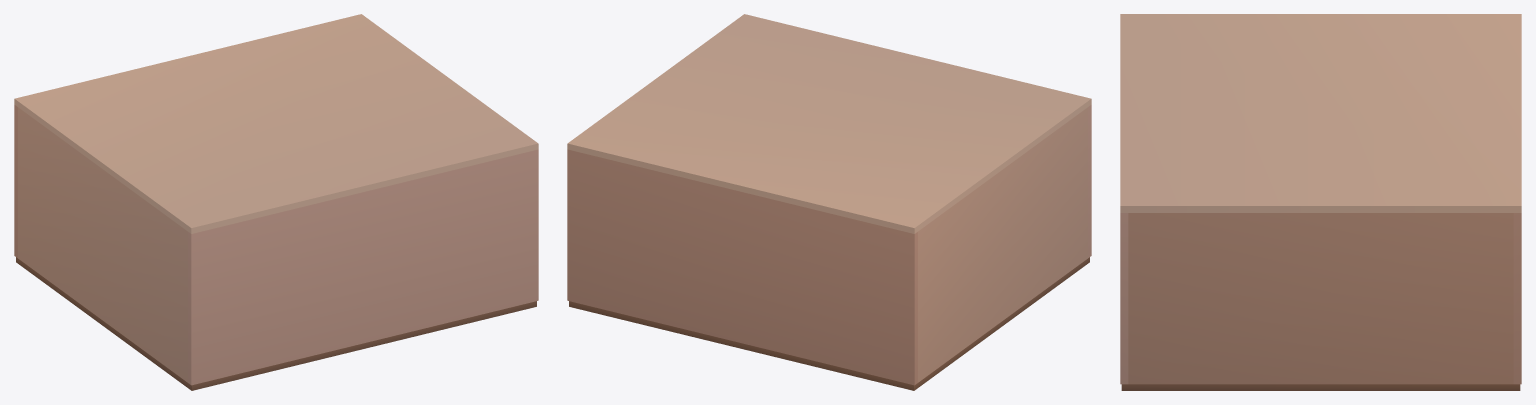
Rendered from livingroom.glb.
3 renders of one model, left to right at view 1: azimuth 30°, elevation 25°; view 2: azimuth 150°, elevation 25°; view 3: azimuth 270°, elevation 25°, orthographic. The views are drawn at different scales.
Visible parts, largest first — view 1: Living Room plaster and walnut floor; view 2: Living Room plaster and walnut floor; view 3: Living Room plaster and walnut floor.
Part boxes in pixels (box(x1,y1,x2,y2)): Living Room plaster and walnut floor: box(14, 14, 538, 390); Living Room plaster and walnut floor: box(567, 14, 1091, 390); Living Room plaster and walnut floor: box(1120, 14, 1521, 390).
Size of the model in its own units: 6.84 by 3.08 by 6.04.
